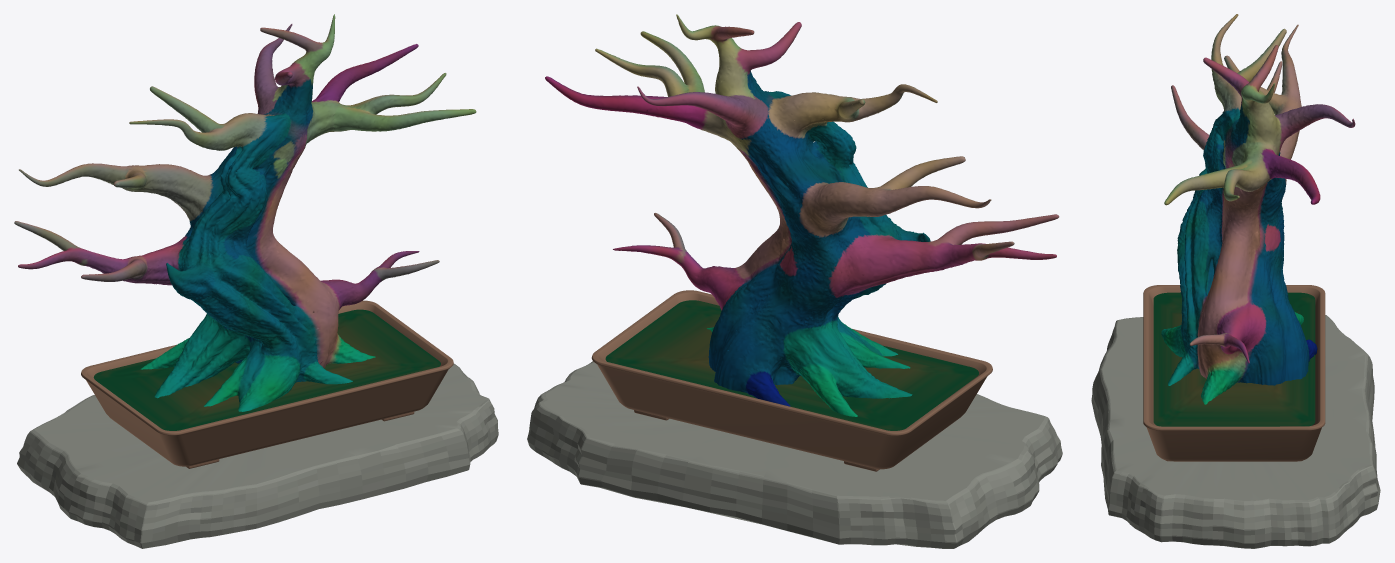
The model's file is hero-v12.glb.
The picture shows the model from 3 angles, left to right: view 1: azimuth 30°, elevation 25°; view 2: azimuth 150°, elevation 25°; view 3: azimuth 270°, elevation 25°; orthographic projection. The views are drawn at different scales.
Visible parts, largest first — view 1: Continuous aged trunk and primary branches, Low split natural bedding stone, Shallow unglazed pot, Continuous planted soil; view 2: Continuous aged trunk and primary branches, Low split natural bedding stone, Shallow unglazed pot, Continuous planted soil; view 3: Continuous aged trunk and primary branches, Low split natural bedding stone, Continuous planted soil, Shallow unglazed pot.
Boxes of the visible parts, x1,y1,x2,y2 form: Continuous aged trunk and primary branches: (14,14,476,411); Low split natural bedding stone: (17,363,498,548); Shallow unglazed pot: (81,300,453,466); Continuous planted soil: (93,309,440,430); Continuous aged trunk and primary branches: (545,14,1059,416); Low split natural bedding stone: (527,361,1062,548); Shallow unglazed pot: (591,290,992,469); Continuous planted soil: (605,300,978,430); Continuous aged trunk and primary branches: (1161,14,1355,404); Low split natural bedding stone: (1091,315,1380,548); Continuous planted soil: (1153,292,1315,426); Shallow unglazed pot: (1143,285,1325,461).
Bounding box in the file's own units: 2.48 × 2.15 × 1.36.
